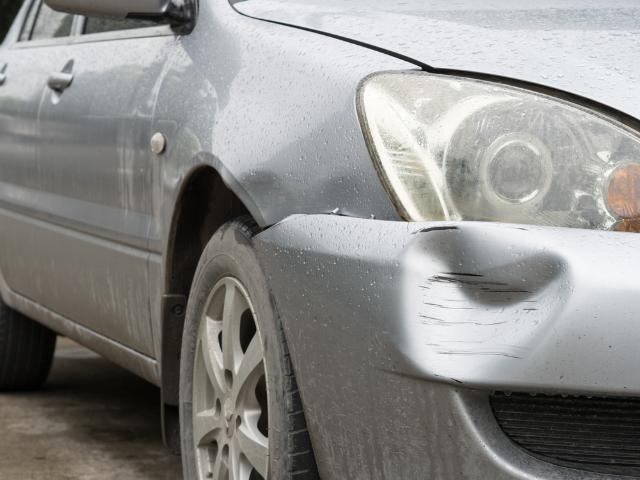dent: (401, 227, 567, 381), (230, 171, 281, 217)
